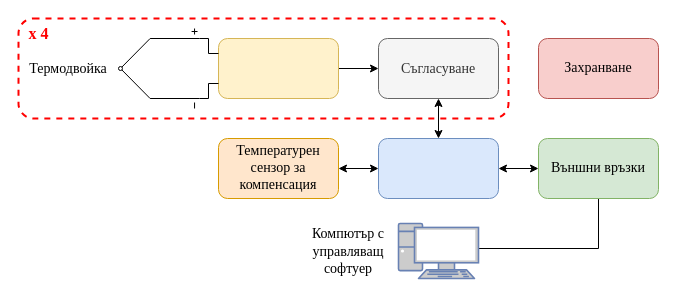
The diagram is 676 pixels wide and 296 high, and some of its shapes have lost their labels. Here are the shapes that lost their labels. From the top down, the box of each, then its label:
(218, 38, 338, 98): Филтрация
(378, 138, 498, 198): Микроконтролер
